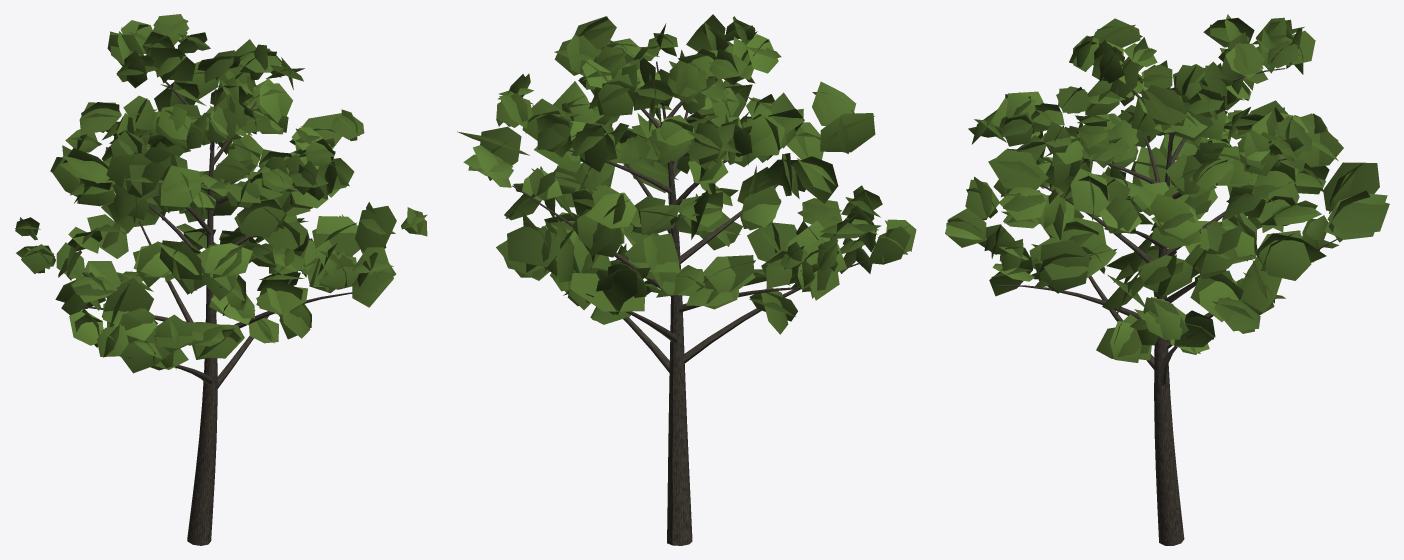
File: spreading_03_lod1.glb
3 views of the same model, side by side, from view 1: azimuth 30°, elevation 25°; view 2: azimuth 150°, elevation 25°; view 3: azimuth 270°, elevation 25° (orthographic). The views are drawn at different scales.
Visible parts, largest first — view 1: individual_curved_leaf_sprigs, retained_branches_0; view 2: individual_curved_leaf_sprigs, retained_branches_0; view 3: individual_curved_leaf_sprigs, retained_branches_0.
Boxes of the visible parts, x1,y1,x2,y2 form: individual_curved_leaf_sprigs: (15,14,427,373); retained_branches_0: (64,70,376,545); individual_curved_leaf_sprigs: (457,14,916,334); retained_branches_0: (512,61,868,545); individual_curved_leaf_sprigs: (945,14,1389,362); retained_branches_0: (997,68,1337,545).
Bounding box in the file's own units: 7.43 × 9.81 × 7.74.
Materials: 2 (1 with a texture image).
